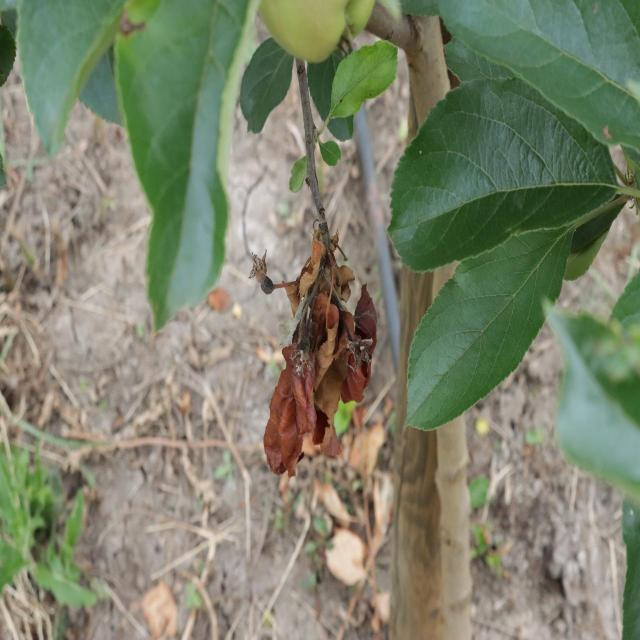-FireBlight-: (272, 224, 374, 481)
